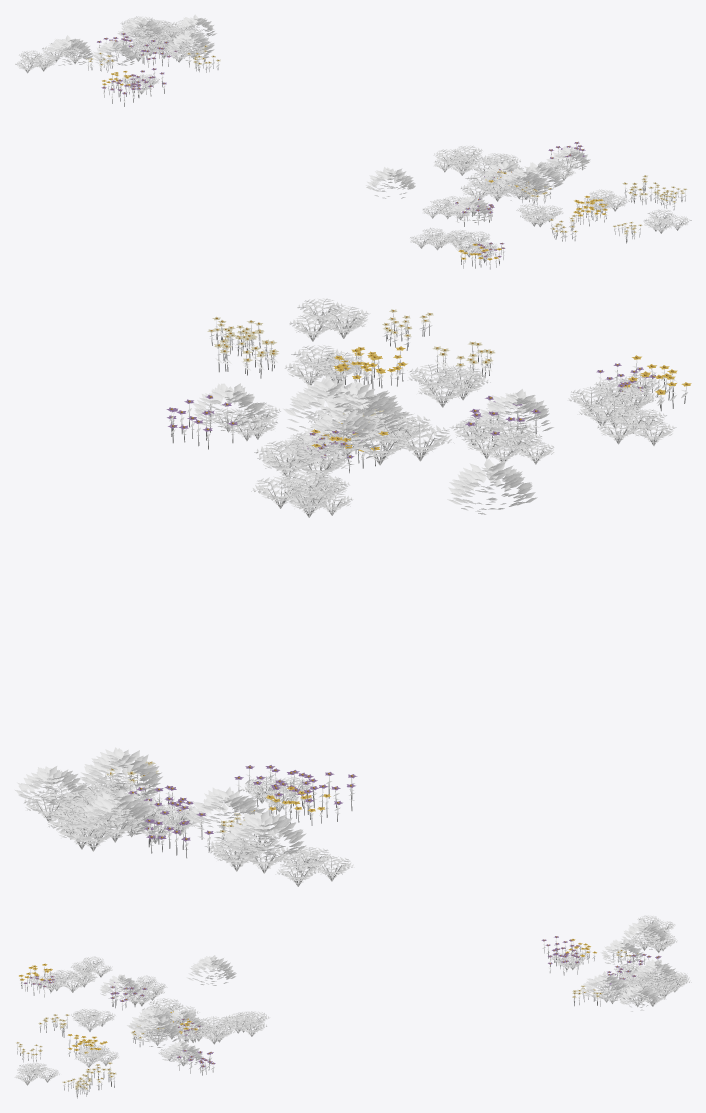
Rendered from SM_DF_Explorer_2_0_Flora.fbx.
3 views of the same model, one above another, from view 1: azimuth 30°, elevation 25°; view 2: azimuth 150°, elevation 25°; view 3: azimuth 270°, elevation 25° (orthographic). The views are drawn at different scales.
Parts seen in each view (by area): view 1: SM_DF_Explorer_2_0_Flora; view 2: SM_DF_Explorer_2_0_Flora; view 3: SM_DF_Explorer_2_0_Flora.
Part boxes in pixels (<box>): SM_DF_Explorer_2_0_Flora: <box>15,14,691,269</box>; SM_DF_Explorer_2_0_Flora: <box>14,298,691,886</box>; SM_DF_Explorer_2_0_Flora: <box>15,915,691,1098</box>.
Bounding box in the file's own units: 1778 × 2890 × 192.
